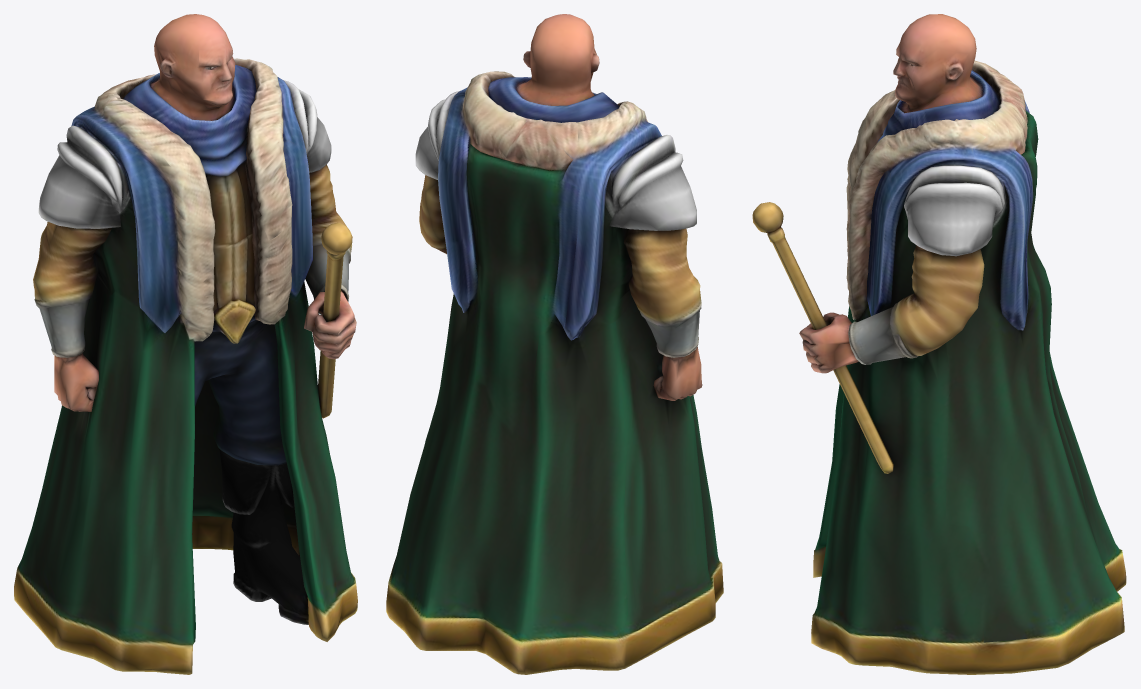
File: Noble man.glb
The picture shows the model from 3 angles, left to right: view 1: azimuth 30°, elevation 25°; view 2: azimuth 150°, elevation 25°; view 3: azimuth 270°, elevation 25°; orthographic projection. The views are drawn at different scales.
Visible parts, largest first — view 1: body_low.001, sceptre_low.001; view 2: body_low.001; view 3: body_low.001, sceptre_low.001.
Boxes of the visible parts, box(x1,y1,x2,y2) form: body_low.001: box(14, 14, 357, 674); sceptre_low.001: box(318, 222, 352, 418); body_low.001: box(386, 14, 723, 674); body_low.001: box(799, 14, 1126, 674); sceptre_low.001: box(752, 202, 893, 473).
Size of the model in its own units: 3.19 by 6.14 by 3.52.
Materials: 1 (1 with a texture image).
